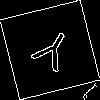Y: (25, 25, 77, 82)
